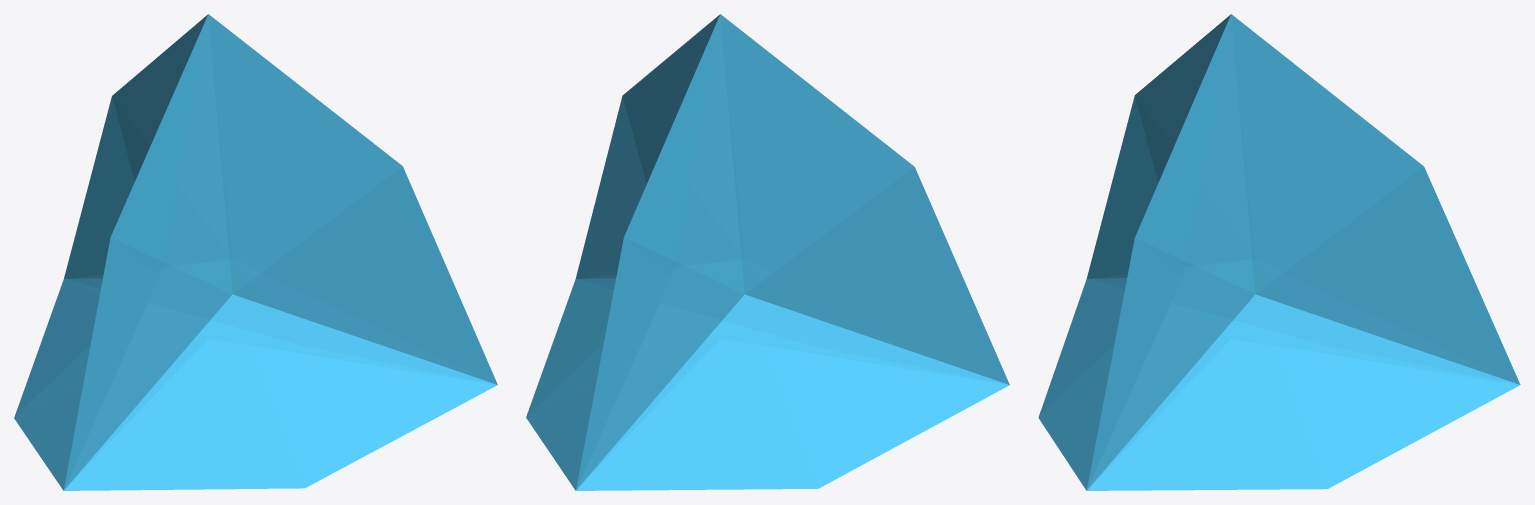
Rendered from HexakisTetrahedron_n3.obj.
The picture shows the model from 3 angles, left to right: view 1: azimuth 30°, elevation 25°; view 2: azimuth 150°, elevation 25°; view 3: azimuth 270°, elevation 25°; orthographic projection.
Size of the model in its own units: 10.4 by 9.24 by 10.
